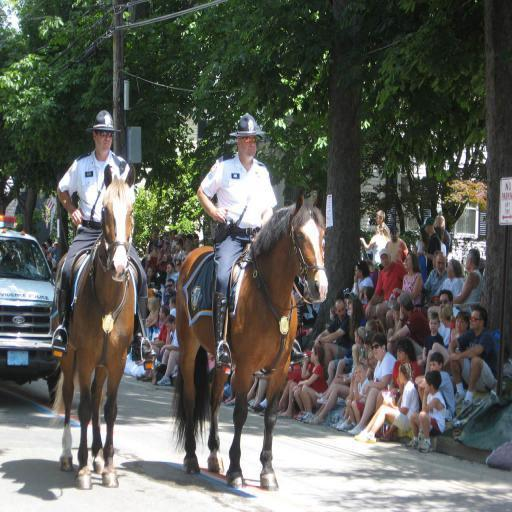horse: (170, 190, 329, 491), (49, 162, 142, 491)
